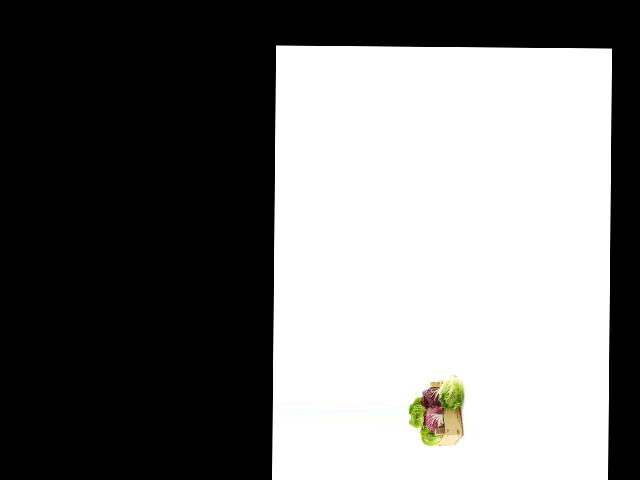lettuce: (408, 397, 429, 428)
